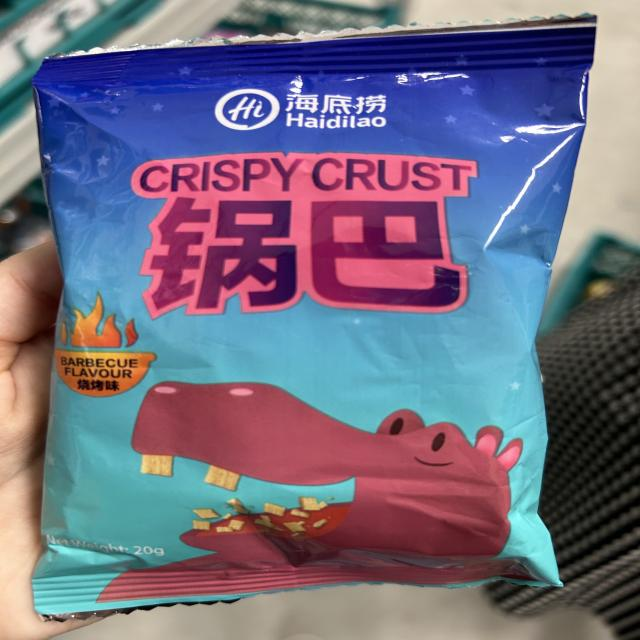object_name: (57, 55, 555, 591)
